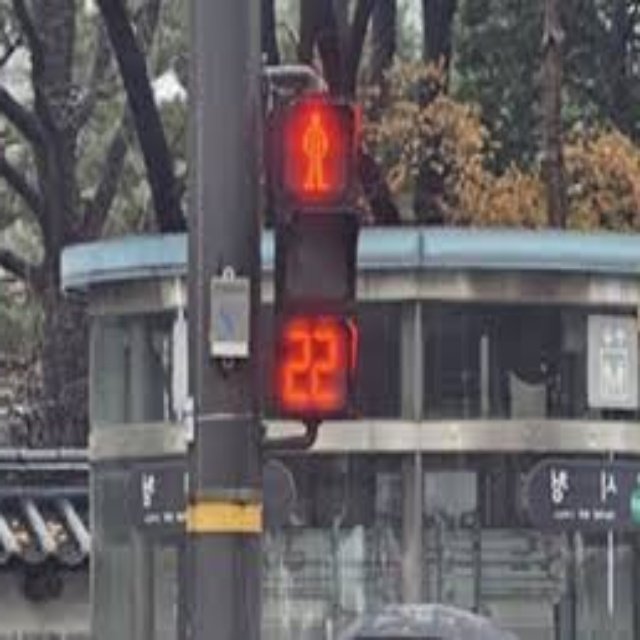red_light: (277, 316, 355, 409), (284, 103, 356, 203)
